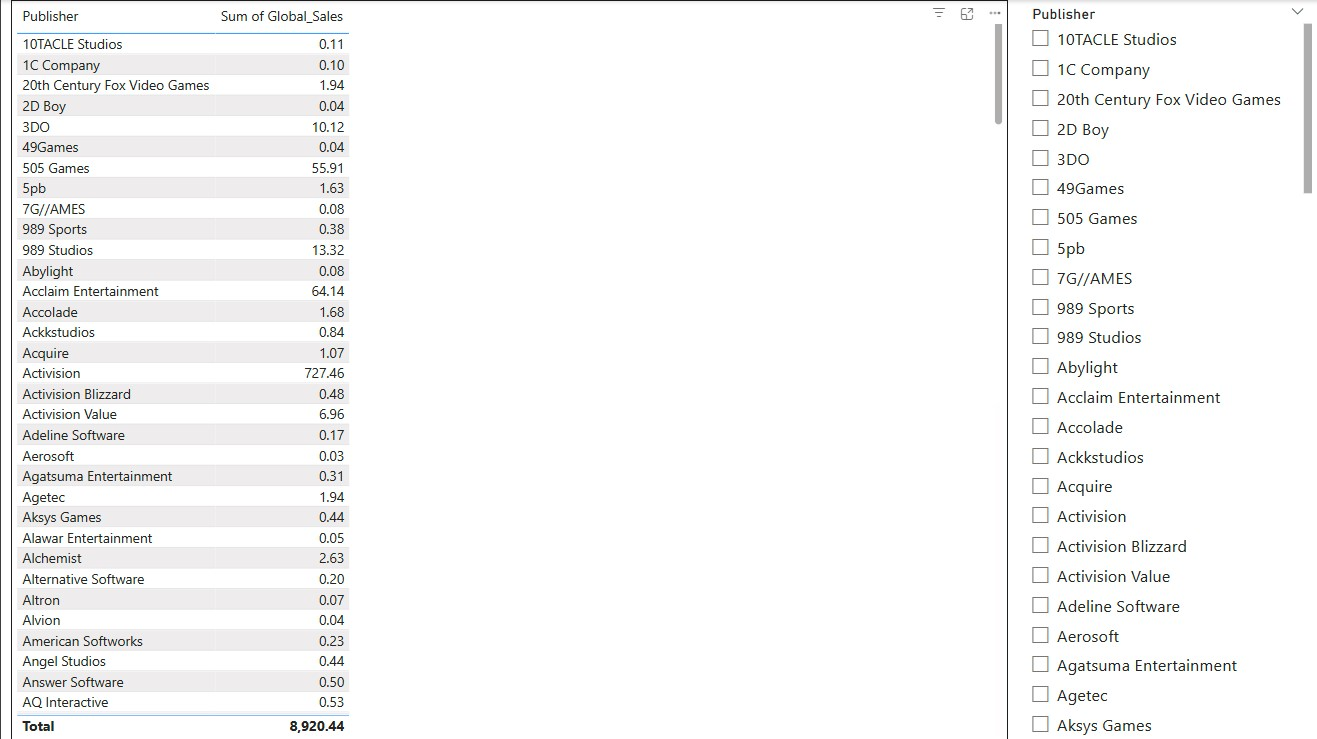

Layout of this report page (visuals, bound fields, positions):
{"tool":"powerbi","page":{"name":"Page 8","canvas":[1280,720],"ordinal":6},"visuals":[{"type":"tableEx","fields":{"Values":["vgsales.Publisher","Sum(vgsales.Global_Sales)"]},"box":[9.7,0,969.7,719.8],"z":0},{"type":"slicer","fields":{"Values":["vgsales.Publisher"]},"box":[990,0,290,720],"z":1}]}

Visuals, with their boxes on the page's 1280x720 design canvas (x1, y1, x2, y2). These are canvas units, not pixel positions in the 1317x739 screenshot, which may show the page scaled, cropped or inside an application window:
tableEx - vgsales.Publisher x Sum(vgsales.Global_Sales): <box>10,0,979,720</box>
slicer - vgsales.Publisher: <box>990,0,1280,720</box>
